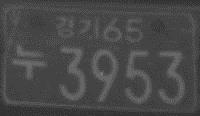3: (156, 49, 186, 106), (57, 45, 86, 101)
5: (124, 48, 153, 105), (125, 16, 144, 44)
6: (102, 16, 122, 43)
9: (90, 46, 120, 102)
경기_O: (54, 16, 101, 40)
누: (11, 42, 47, 81)
